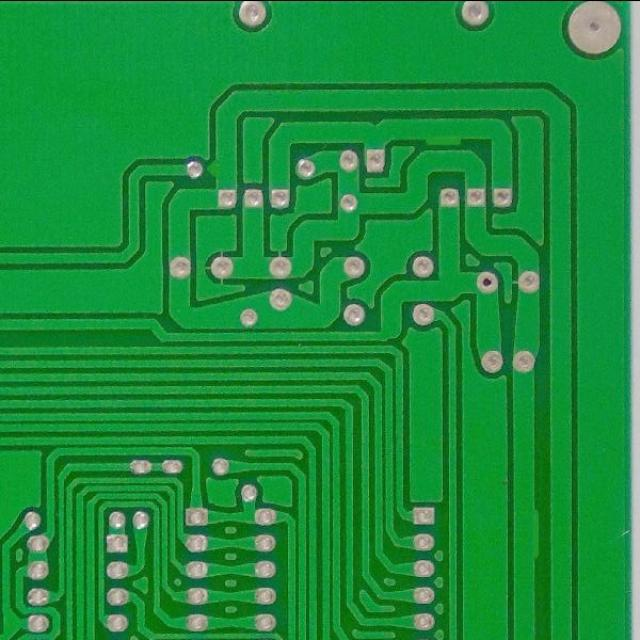Missing_Hole: (474, 269, 500, 294)
Spur: (507, 500, 548, 568), (418, 114, 469, 152), (204, 153, 241, 184)
